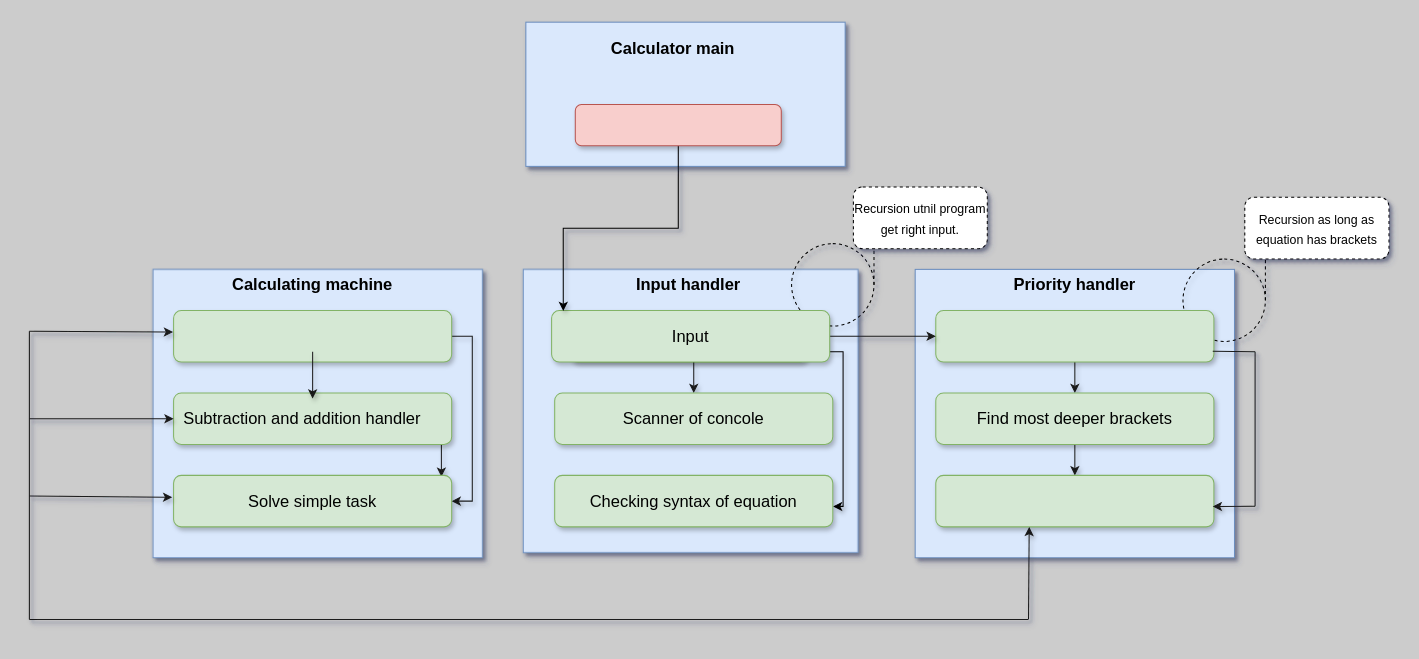
This 1419x659 diagram has some shape labels left out. Here are the shapes that lost their labels. From the top down, the centre of each, then its label:
At point 678,126: "Calling the input of equation".
At point 313,337: "Dividind and multiplying handler".
At point 1075,337: "Is equation has brackets".
At point 1075,502: "Operations priority handler".
